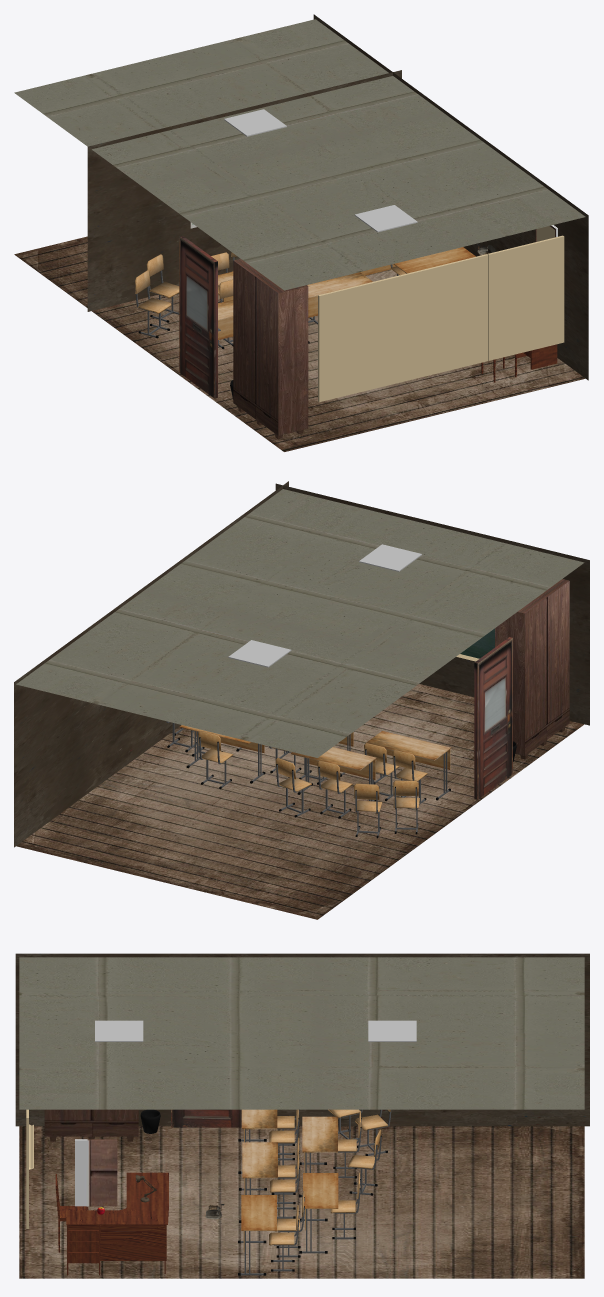
File: classroom.glb
3 views of the same model, one above another, from view 1: azimuth 30°, elevation 25°; view 2: azimuth 150°, elevation 25°; view 3: azimuth 270°, elevation 25° (orthographic). The views are drawn at different scales.
Parts seen in each view (by area): view 1: ceiling, floor, Cube, back wall, Cube.068, Cube.061, left wal, Cube.065, Cube.069-Material 013, Cube.070-Material 013, Cube.019-Material 005, Cube.016-Material 006 (+3 smaller); view 2: ceiling, floor, left wal, Cube.068, front wall, Cube.065, Cube.034-Material 006, Cube.070-Material 013, Cube.069-Material 013, Cube.1-Material 006, Cube.032-Material 002, Cube.033-Material 002 (+4 smaller); view 3: ceiling, floor, right wall, Cube.071, playerlist-Material 011, Cube.068, Cube.065, Cube.1-Material 006, Cube.016-Material 006, Cube.019-Material 005, Cube.022-Material 005, Cube.069-Material 013 (+2 smaller).
Part boxes in pixels (x1=…): ceiling: x1=14, y1=19, x2=585, y2=290; floor: x1=14, y1=236, x2=585, y2=451; Cube: x1=318, y1=254, x2=488, y2=402; back wall: x1=87, y1=70, x2=401, y2=311; Cube.068: x1=233, y1=258, x2=308, y2=439; Cube.061: x1=487, y1=235, x2=564, y2=360; left wal: x1=313, y1=14, x2=588, y2=380; Cube.065: x1=179, y1=235, x2=217, y2=398; Cube.069-Material 013: x1=224, y1=109, x2=286, y2=136; Cube.070-Material 013: x1=354, y1=205, x2=417, y2=232; Cube.019-Material 005: x1=394, y1=247, x2=475, y2=273; Cube.016-Material 006: x1=307, y1=272, x2=372, y2=298; ceiling: x1=16, y1=489, x2=584, y2=757; floor: x1=16, y1=684, x2=584, y2=919; left wal: x1=14, y1=481, x2=288, y2=847; Cube.068: x1=495, y1=579, x2=569, y2=759; front wall: x1=275, y1=483, x2=589, y2=725; Cube.065: x1=474, y1=637, x2=512, y2=799; Cube.034-Material 006: x1=365, y1=731, x2=451, y2=760; Cube.070-Material 013: x1=359, y1=544, x2=421, y2=571; Cube.069-Material 013: x1=228, y1=640, x2=291, y2=667; Cube.1-Material 006: x1=290, y1=747, x2=376, y2=770; Cube.032-Material 002: x1=354, y1=783, x2=382, y2=812; Cube.033-Material 002: x1=393, y1=780, x2=419, y2=808; ceiling: x1=19, y1=957, x2=584, y2=1109; floor: x1=19, y1=1126, x2=584, y2=1278; right wall: x1=15, y1=953, x2=589, y2=1126; Cube.071: x1=66, y1=1172, x2=168, y2=1275; playerlist-Material 011: x1=75, y1=1139, x2=117, y2=1206; Cube.068: x1=44, y1=1109, x2=138, y2=1141; Cube.065: x1=171, y1=1109, x2=241, y2=1127; Cube.1-Material 006: x1=302, y1=1116, x2=337, y2=1152; Cube.016-Material 006: x1=242, y1=1142, x2=277, y2=1178; Cube.019-Material 005: x1=241, y1=1195, x2=276, y2=1230; Cube.022-Material 005: x1=303, y1=1173, x2=338, y2=1208; Cube.069-Material 013: x1=368, y1=1020, x2=416, y2=1041.
Bounding box in the file's own units: 12.29 × 6.24 × 18.57.
Materials: 19 (13 with a texture image).
